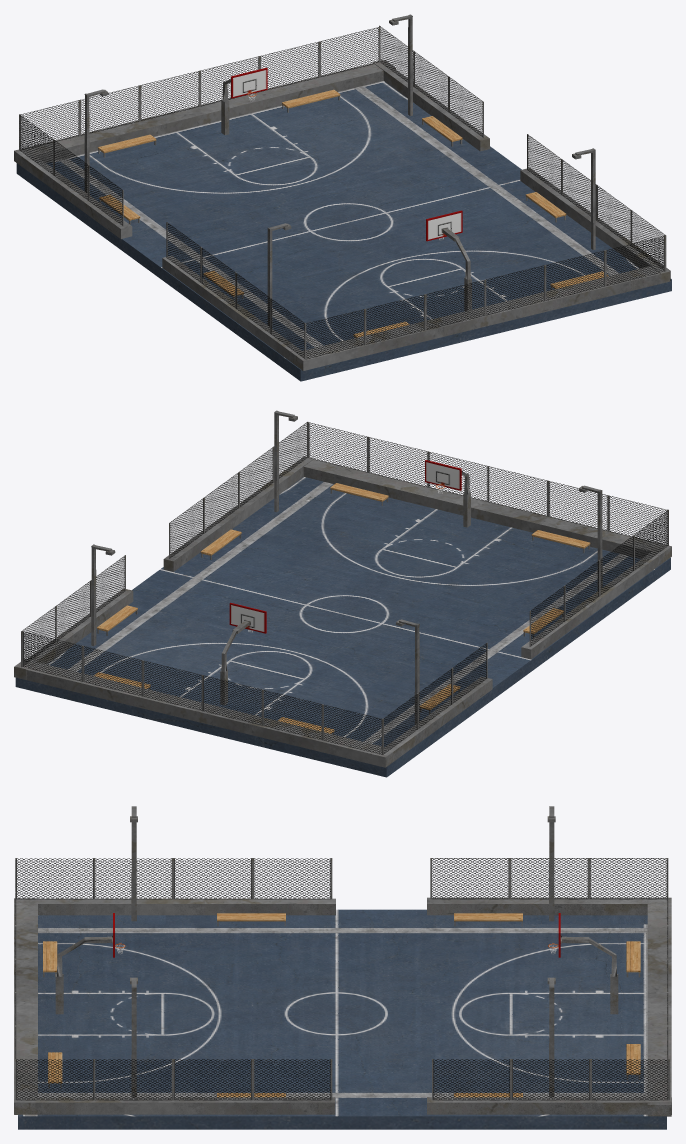
File: Basekball Ground (1).fbx
3 views of the same model, one above another, from view 1: azimuth 30°, elevation 25°; view 2: azimuth 150°, elevation 25°; view 3: azimuth 270°, elevation 25° (orthographic). The views are drawn at different scales.
Visible parts, largest first — view 1: Object_4, Object_5, Object_99, Object_72, Object_81, Object_69, Object_75, Object_84, Object_78, Object_42, Object_51, Object_45 (+20 smaller); view 2: Object_4, Object_5, Object_99, Object_51, Object_42, Object_48, Object_57, Object_78, Object_69, Object_54, Object_45, Object_72 (+20 smaller); view 3: Object_4, Object_5, Object_99, Object_27, Object_36, Object_87, Object_93, Object_21, Object_66, Object_33, Object_30, Object_96 (+8 smaller).
Boxes of the visible parts, left/top/right/bottom form: Object_4: left=16, top=81, right=671, bottom=381; Object_5: left=14, top=60, right=670, bottom=370; Object_99: left=84, top=14, right=595, bottom=327; Object_72: left=546, top=250, right=604, bottom=300; Object_81: left=366, top=294, right=424, bottom=344; Object_69: left=606, top=236, right=664, bottom=285; Object_75: left=486, top=265, right=544, bottom=315; Object_84: left=306, top=309, right=364, bottom=359; Object_78: left=426, top=280, right=484, bottom=329; Object_42: left=321, top=27, right=378, bottom=76; Object_51: left=141, top=71, right=198, bottom=120; Object_45: left=261, top=42, right=318, bottom=91; Object_4: left=15, top=477, right=670, bottom=777; Object_5: left=14, top=456, right=671, bottom=767; Object_99: left=91, top=410, right=602, bottom=724; Object_51: left=203, top=675, right=261, bottom=725; Object_42: left=23, top=631, right=81, bottom=681; Object_48: left=144, top=661, right=201, bottom=710; Object_57: left=324, top=704, right=381, bottom=754; Object_78: left=489, top=466, right=546, bottom=516; Object_69: left=309, top=422, right=366, bottom=472; Object_54: left=264, top=690, right=321, bottom=739; Object_45: left=84, top=646, right=141, bottom=695; Object_72: left=369, top=437, right=427, bottom=486; Object_4: left=18, top=909, right=666, bottom=1129; Object_5: left=14, top=897, right=671, bottom=1116; Object_99: left=130, top=806, right=555, bottom=1097; Object_27: left=174, top=1059, right=251, bottom=1100; Object_36: left=512, top=1059, right=589, bottom=1100; Object_87: left=16, top=858, right=93, bottom=899; Object_93: left=174, top=858, right=251, bottom=899; Object_21: left=16, top=1059, right=93, bottom=1100; Object_66: left=590, top=858, right=666, bottom=899; Object_33: left=433, top=1059, right=509, bottom=1100; Object_30: left=254, top=1059, right=330, bottom=1100; Object_96: left=254, top=858, right=330, bottom=899.
Bounding box in the file's own units: 1815 × 519 × 2433.
Materials: 12 (8 with a texture image).
